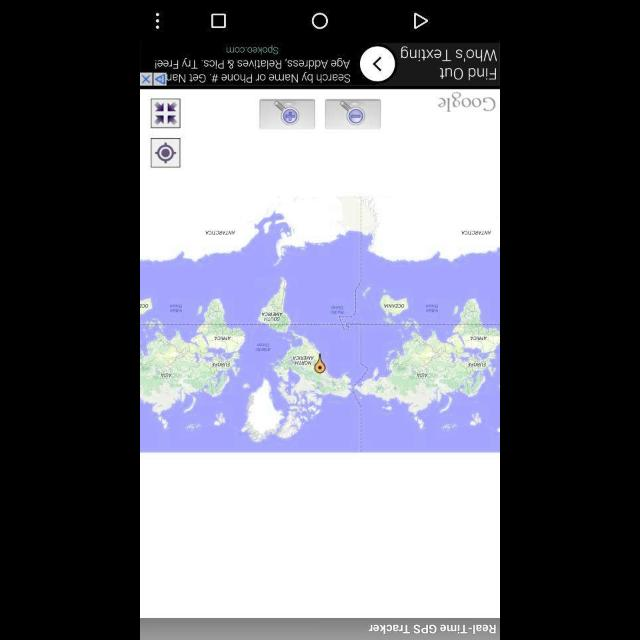icon: (326, 100, 382, 132), (259, 100, 315, 130), (150, 139, 180, 169), (150, 99, 180, 128), (311, 13, 329, 29), (414, 13, 428, 29), (210, 14, 226, 28), (153, 13, 163, 32)
iframe: (140, 44, 498, 88)
map: (140, 89, 500, 454)
panel: (141, 1, 499, 43), (141, 618, 499, 640)
text: (364, 624, 496, 634)
